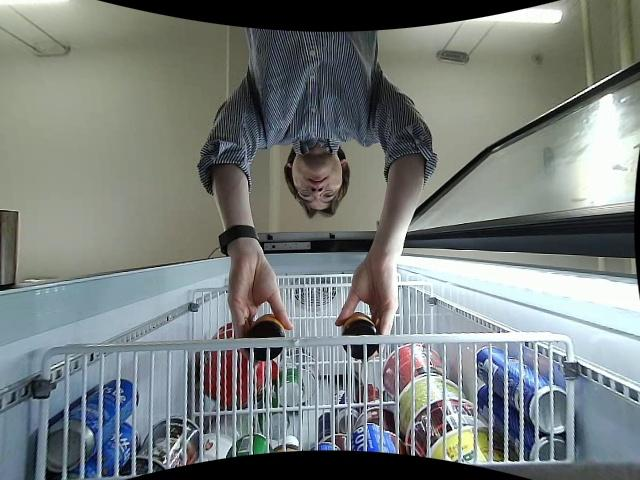00_hand: (335, 262, 400, 354), (225, 261, 293, 336)
17_vita500: (340, 312, 378, 359), (248, 314, 287, 359)
